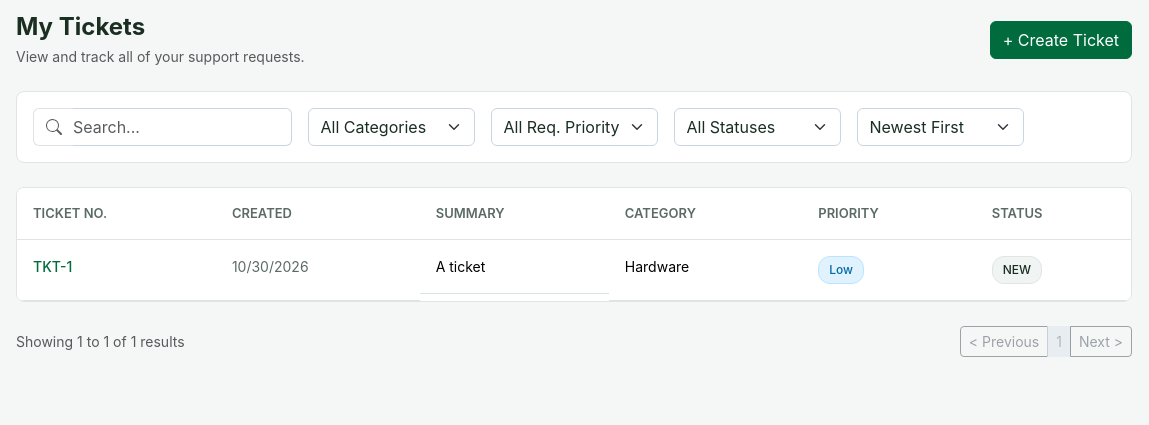
Scenario: MyTickets Component › shows No-Results State when filters match nothing
The width and height of the screenshot is (1149, 425).
Expected: the link "TKT-1" is shown, top-left (33, 258), bottom-right (72, 275)
# Apply a search filter
Type "NotFound" into the field with placeholder "Search...".
click(182, 127); type("NotFound")  # box top-left (73, 108), bottom-right (292, 146)
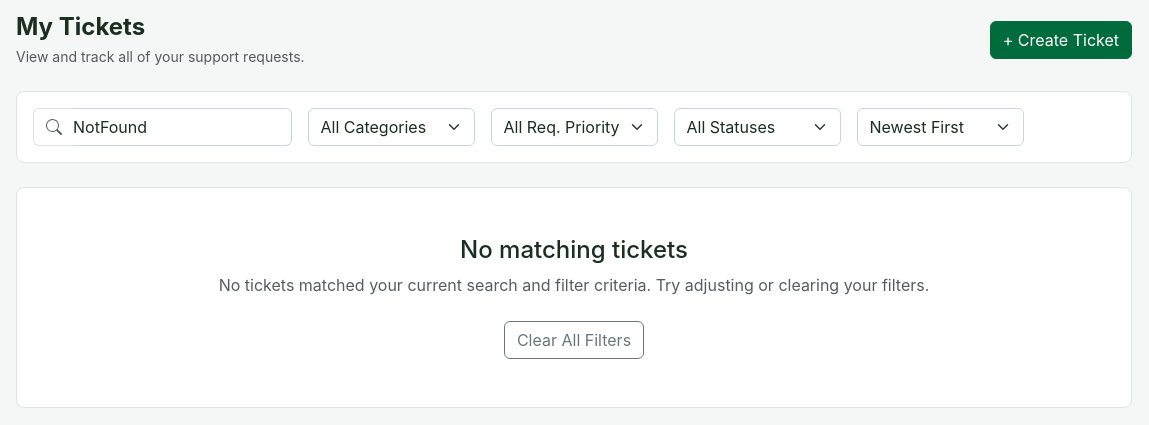
Expected: the heading "No matching tickets" is shown, top-left (460, 235), bottom-right (688, 264)
Expected: the button "Clear All Filters" is shown, top-left (504, 321), bottom-right (644, 359)
